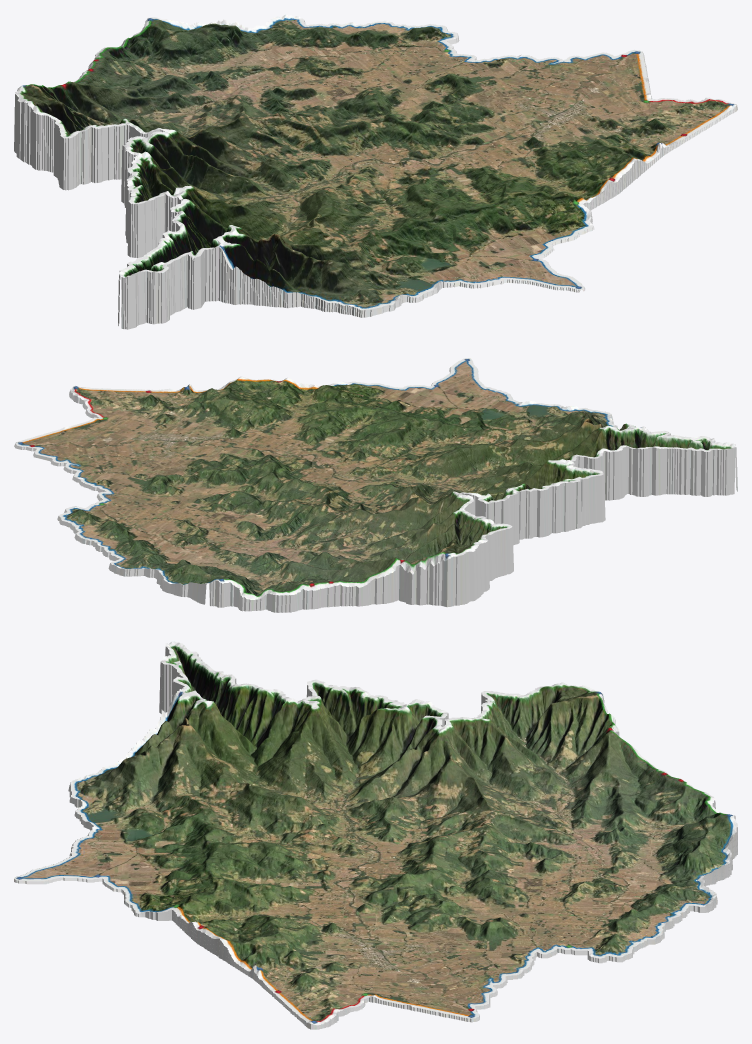
The picture shows the model from 3 angles, top to bottom: view 1: azimuth 30°, elevation 25°; view 2: azimuth 150°, elevation 25°; view 3: azimuth 270°, elevation 25°; orthographic projection. The views are drawn at different scales.
Bounding box in the file's own units: 1 × 0.0825 × 0.9105.
1 material, 1 textured.
